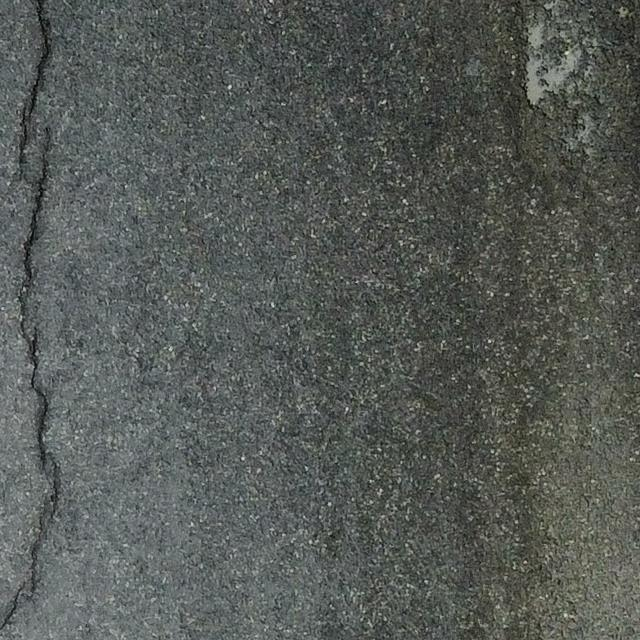LongitudinalCrack: (1, 1, 66, 632)
